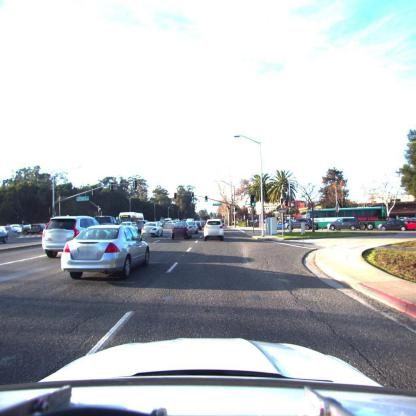bus: (305, 207, 387, 231), (118, 212, 145, 238)
car: (60, 224, 152, 281), (42, 216, 102, 258), (204, 218, 225, 241), (289, 218, 315, 233), (328, 218, 360, 230), (380, 217, 406, 231), (171, 223, 192, 240), (142, 223, 162, 239), (21, 225, 46, 237), (398, 217, 416, 231), (94, 217, 118, 226), (6, 224, 22, 235), (162, 218, 174, 230), (188, 221, 201, 232), (0, 228, 8, 244), (194, 221, 205, 230)
